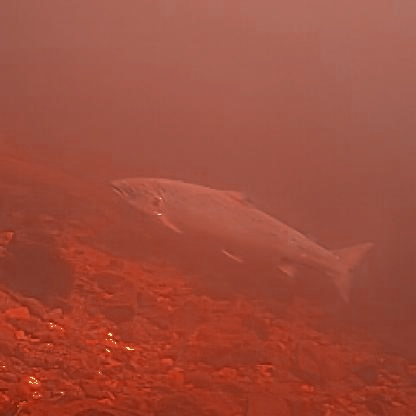salmon: (106, 172, 376, 302)
